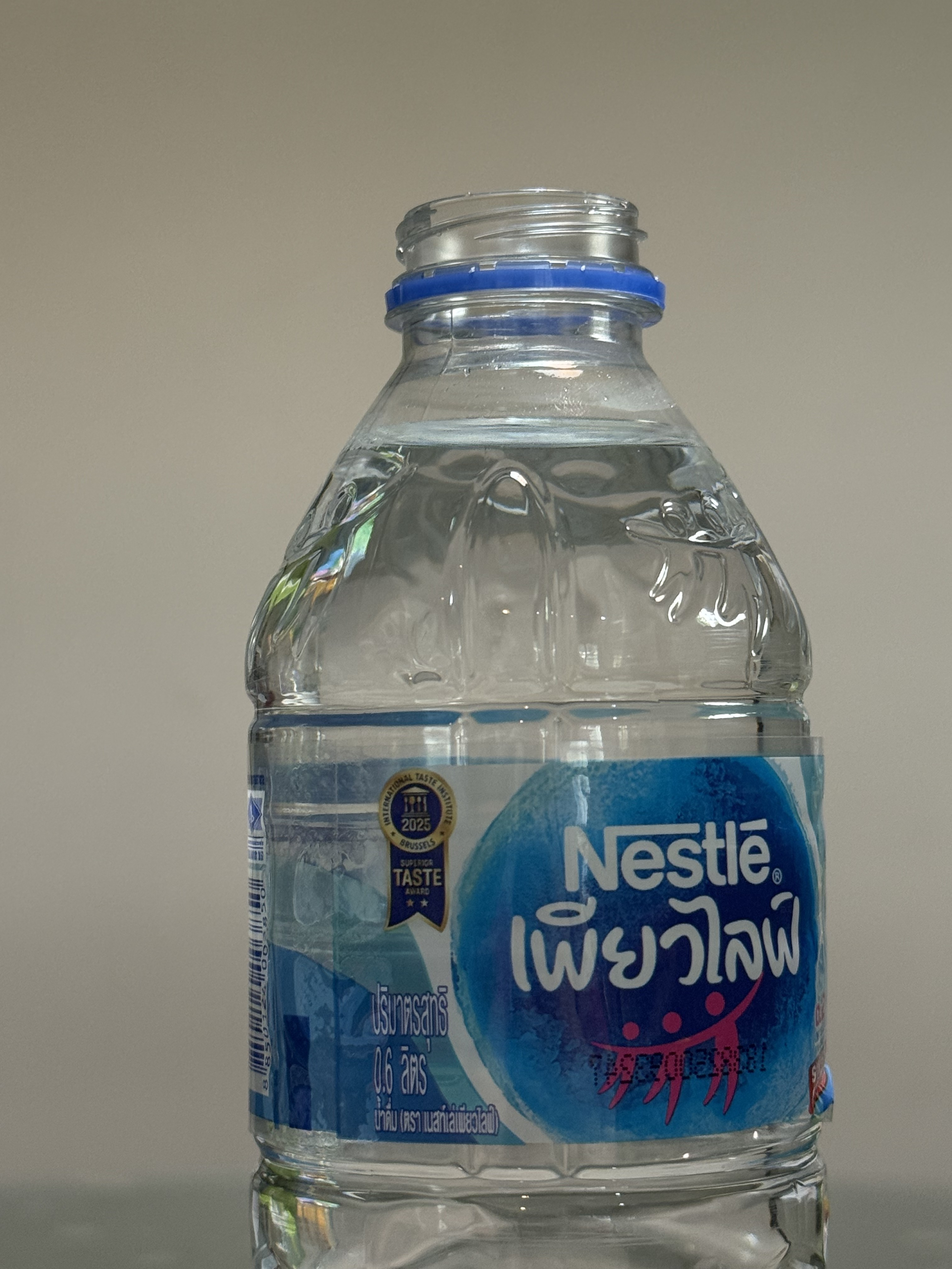no_cap: (380, 180, 670, 323)
